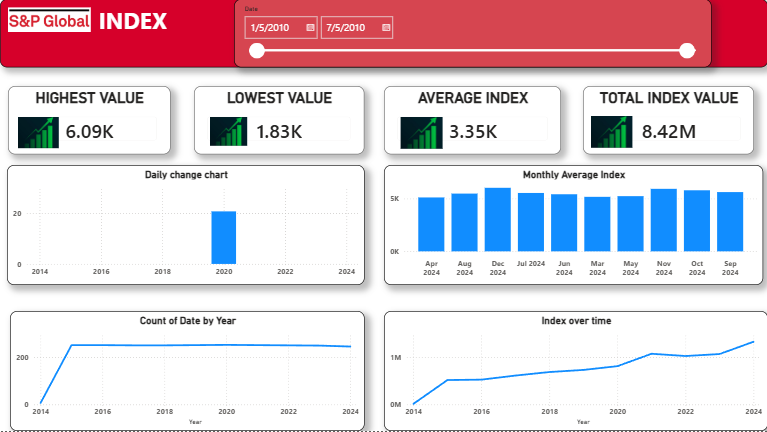

The dashboard page shown, as its layout file describes it:
{"tool":"powerbi","page":{"name":"Index","canvas":[1280,720],"ordinal":1},"visuals":[{"type":"textbox","box":[0,0,1280.2,113.8],"z":0},{"type":"image","box":[13,0,138.2,69.1],"z":1000},{"type":"cardVisual","title":"HIGHEST  VALUE ","fields":{"Data":["Max(Index.S&P500)"]},"box":[13,145.4,270.7,113.8],"z":2000},{"type":"cardVisual","title":"LOWEST VALUE","fields":{"Data":["Min(Index.S&P500)"]},"box":[324,145.4,283.7,113.8],"z":3000},{"type":"cardVisual","title":"AVERAGE INDEX","fields":{"Data":["Avg(Index.S&P500)"]},"box":[640.8,145.4,295.2,113.8],"z":4000},{"type":"cardVisual","title":"TOTAL INDEX VALUE","fields":{"Data":["Sum(Index.S&P500)"]},"box":[972,145.4,285.1,113.8],"z":5000},{"type":"image","box":[24.5,195.8,77.8,51.8],"z":6000},{"type":"image","box":[985,194.4,69.1,53.3],"z":7000},{"type":"image","box":[345.6,197.3,72,47.5],"z":8000},{"type":"image","box":[666.7,195.8,72,53.3],"z":9000},{"type":"lineChart","title":"Index over time","fields":{"Y":["Sum(Index.S&P500)"],"Category":["Index.Date.Variation.Date Hierarchy.Year","Index.Date.Variation.Date Hierarchy.Quarter","Index.Date.Variation.Date Hierarchy.Month","Index.Date.Variation.Date Hierarchy.Day"]},"box":[640,520.7,640,199.9],"z":10000},{"type":"lineChart","fields":{"Category":["Index.Date.Variation.Date Hierarchy.Year","Index.Date.Variation.Date Hierarchy.Quarter","Index.Date.Variation.Date Hierarchy.Month","Index.Date.Variation.Date Hierarchy.Day"],"Y":["CountNonNull(Index.Date)"]},"box":[16.8,520.7,591.3,199.9],"z":11000},{"type":"columnChart","title":"Monthly Average Index","fields":{"Category":["Index.Month Year"],"Y":["Avg(Index.SP500_Value)"]},"box":[640,277.2,631.6,199.9],"z":12000},{"type":"clusteredColumnChart","title":"Daily change chart","fields":{"Category":["Index.Date.Variation.Date Hierarchy.Year","Index.Date.Variation.Date Hierarchy.Quarter","Index.Date.Variation.Date Hierarchy.Month","Index.Date.Variation.Date Hierarchy.Day"],"Y":["Index.Daily change"]},"box":[11.8,277.2,596.3,199.9],"z":12001},{"type":"slicer","fields":{"Values":["Stock.Date"]},"box":[389.7,0,796.2,114.2],"z":12002}]}

Visuals, with their boxes in screenshot pixels (x1, y1, x2, y2), scaled from the page's 1280x720 canvas onto the 767x432 screenshot:
textbox: box=[0, 0, 766, 68]
image: box=[8, 0, 91, 41]
"HIGHEST  VALUE " cardVisual: box=[8, 87, 170, 156]
"LOWEST VALUE" cardVisual: box=[194, 87, 364, 156]
"AVERAGE INDEX" cardVisual: box=[384, 87, 561, 156]
"TOTAL INDEX VALUE" cardVisual: box=[582, 87, 753, 156]
image: box=[15, 117, 61, 149]
image: box=[590, 117, 632, 149]
image: box=[207, 118, 250, 147]
image: box=[399, 117, 443, 149]
"Index over time" lineChart: box=[384, 312, 766, 431]
lineChart - Index.Date.Variation.Date Hierarchy.Year x Index.Date.Variation.Date Hierarchy.Quarter: box=[10, 312, 364, 431]
"Monthly Average Index" columnChart: box=[384, 166, 762, 286]
"Daily change chart" clusteredColumnChart: box=[7, 166, 364, 286]
slicer - Stock.Date: box=[234, 0, 711, 69]
